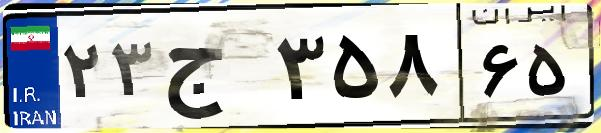2: (57, 26, 110, 100)
3: (270, 28, 330, 110), (110, 28, 158, 98)
5: (330, 28, 385, 110), (525, 38, 570, 115)
6: (475, 38, 525, 113)
8: (385, 28, 445, 110)
ج: (158, 20, 270, 120)
